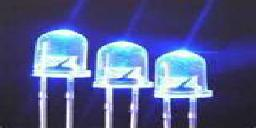LED: (31, 29, 89, 124), (92, 38, 152, 124), (154, 45, 208, 125)
